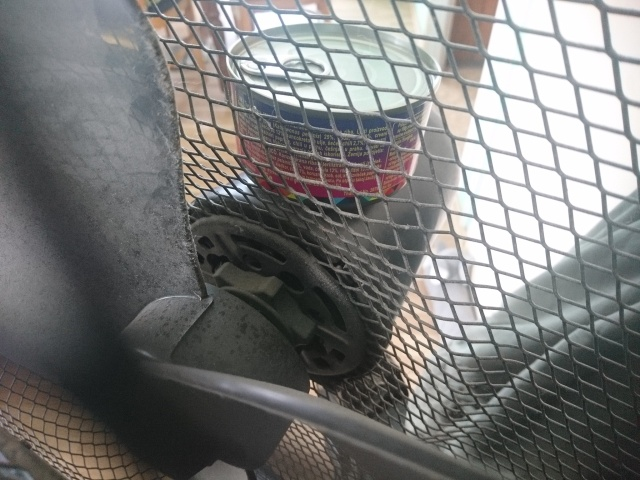Giana Tuna Salad Mexico 185g: (222, 19, 445, 212)
